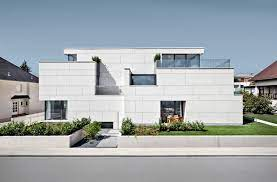Building House: (31, 43, 250, 133)
